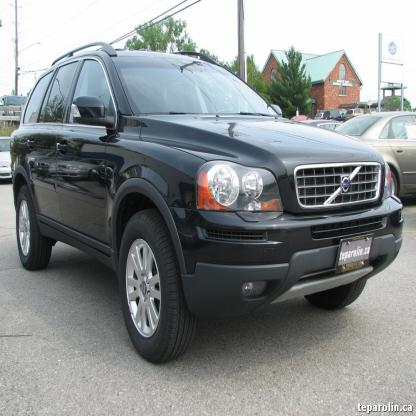Vehicle: (10, 41, 404, 367)
